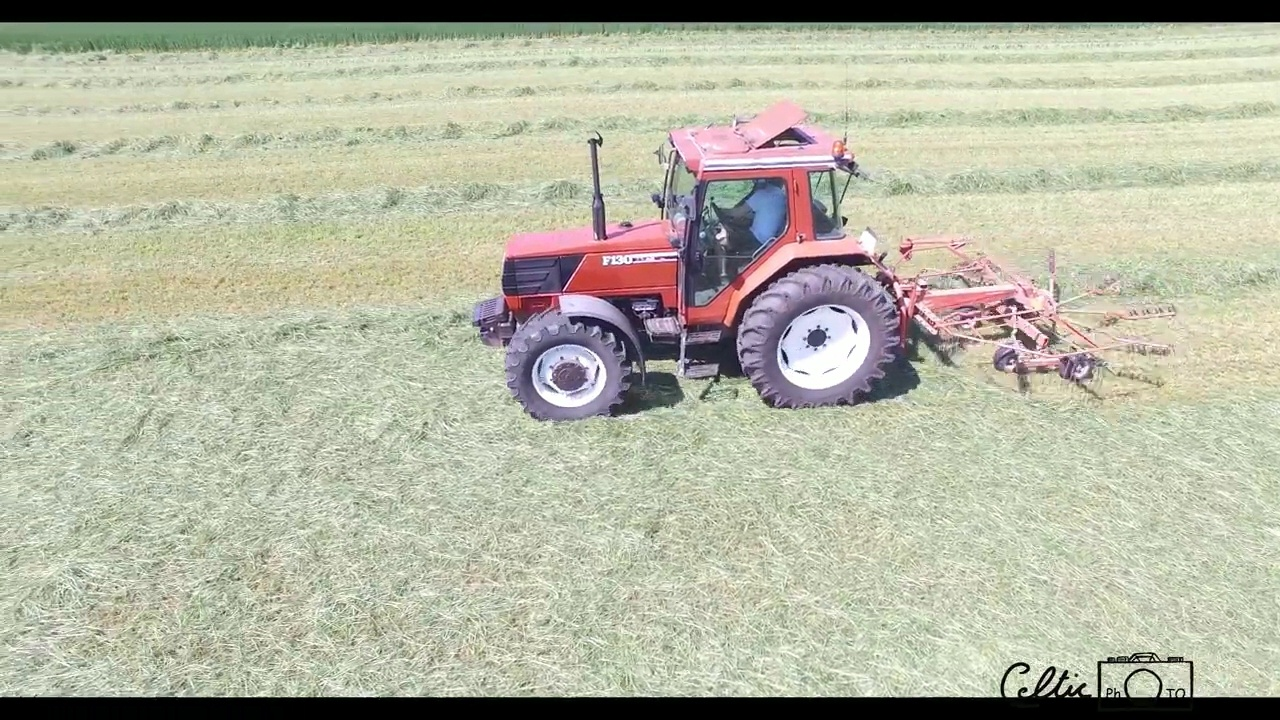traktor: (465, 112, 902, 417)
